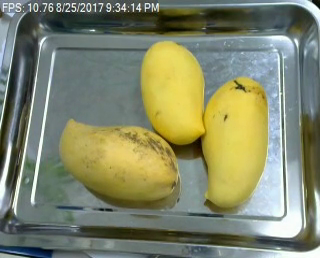Mango: (59, 118, 179, 200), (200, 78, 268, 207), (140, 41, 205, 145)
